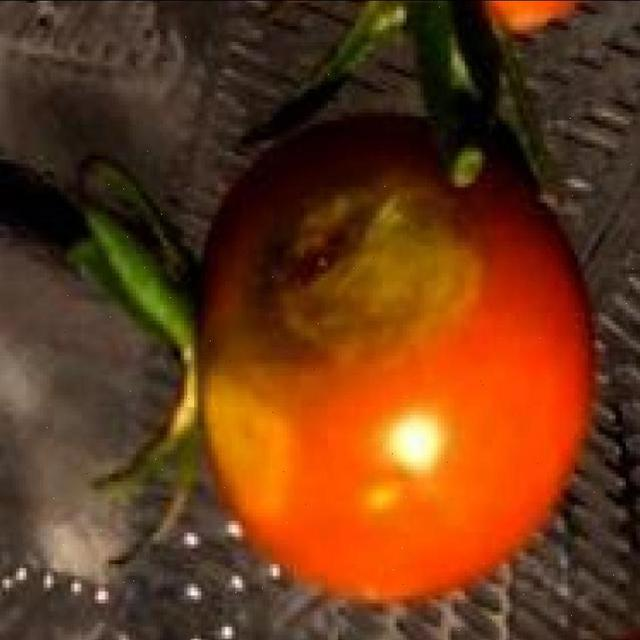Sunscald Fruit: (68, 105, 238, 290)
